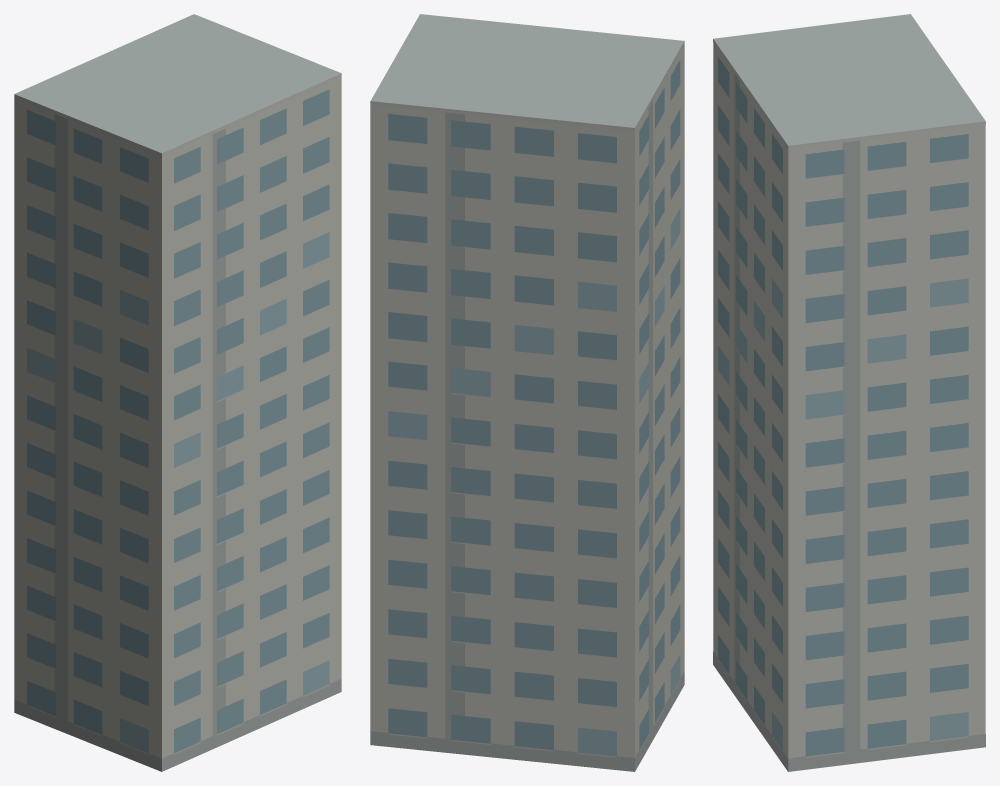
Rendered from residential-974964dd-6fda-4136-9a9e-2113ffd66c19.glb.
3 renders of one model, left to right at view 1: azimuth 30°, elevation 25°; view 2: azimuth 150°, elevation 25°; view 3: azimuth 270°, elevation 25°, orthographic. The views are drawn at different scales.
Visible parts, largest first — view 1: residential-974964dd-6fda-4136-9a9e-2113ffd66c19.tmp; view 2: residential-974964dd-6fda-4136-9a9e-2113ffd66c19.tmp; view 3: residential-974964dd-6fda-4136-9a9e-2113ffd66c19.tmp.
Part boxes in pixels (x1,y1,x2,y2): residential-974964dd-6fda-4136-9a9e-2113ffd66c19.tmp: [14, 14, 341, 771]; residential-974964dd-6fda-4136-9a9e-2113ffd66c19.tmp: [370, 14, 684, 771]; residential-974964dd-6fda-4136-9a9e-2113ffd66c19.tmp: [713, 14, 985, 771].
Bounding box in the file's own units: 18.97 × 42 × 16.59.
